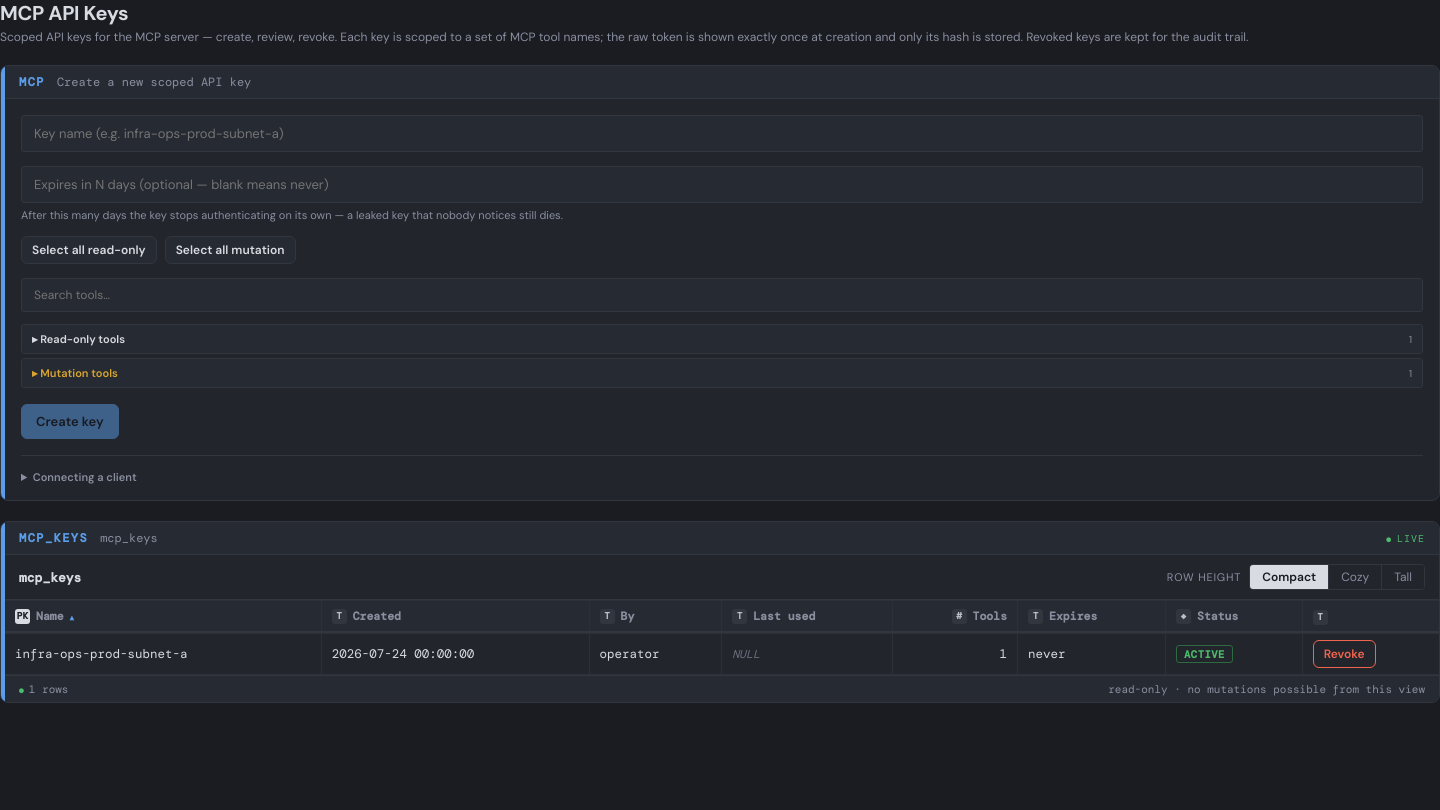
Scenario: McpKeys page error handling › a failed revoke shows an inline error without hiding the key list or create form
Expected: the text "infra-ops-prod-subnet-a" is shown, [5,634,321,674]
Click the button "Revoke" at (1344, 654), box [1313,640,1376,668]
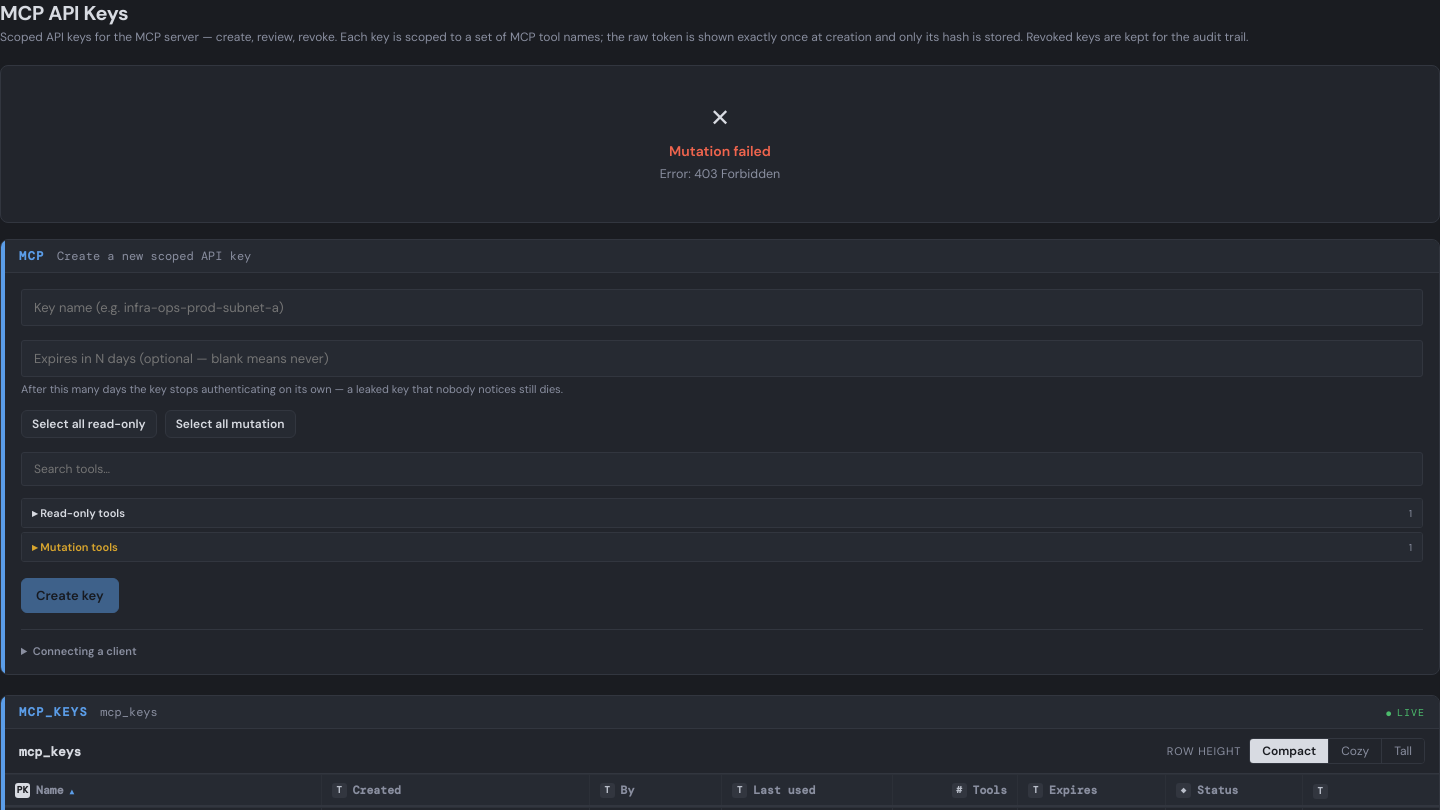
Expected: the field with placeholder "Key name (e.g. infra-ops-prod-subnet-a)" is shown, [21,289,1423,326]
Now the text "Error: 403 Forbidden" is shown, box [660,166,780,182]
